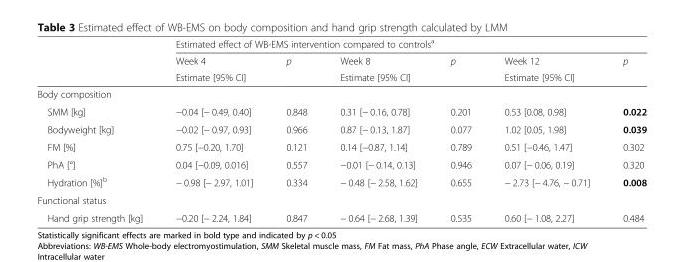table: (36, 36, 646, 223)
table column: (36, 36, 158, 223), (487, 36, 605, 223), (158, 36, 269, 223), (323, 36, 433, 223), (269, 36, 323, 223), (433, 36, 487, 223), (605, 36, 646, 223)
table column header: (36, 36, 646, 85)
table projected row header: (36, 85, 646, 102), (36, 191, 646, 208)
table row: (36, 172, 646, 191), (36, 119, 646, 137), (36, 137, 646, 155), (36, 68, 646, 85), (36, 85, 646, 102), (36, 102, 646, 119), (36, 155, 646, 172), (36, 191, 646, 208), (36, 36, 646, 52), (36, 52, 646, 68), (36, 208, 646, 223)
table spanning cell: (158, 36, 646, 52), (487, 52, 605, 85), (158, 52, 269, 85), (323, 52, 433, 85), (269, 52, 323, 85), (433, 52, 487, 85), (605, 52, 646, 85)
